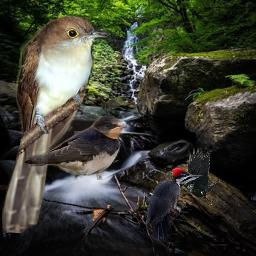Crow: (178, 146, 220, 207)
Cuckoo: (2, 14, 108, 233)
Swallow: (23, 114, 127, 180)
Woodpecker: (143, 167, 204, 239)
